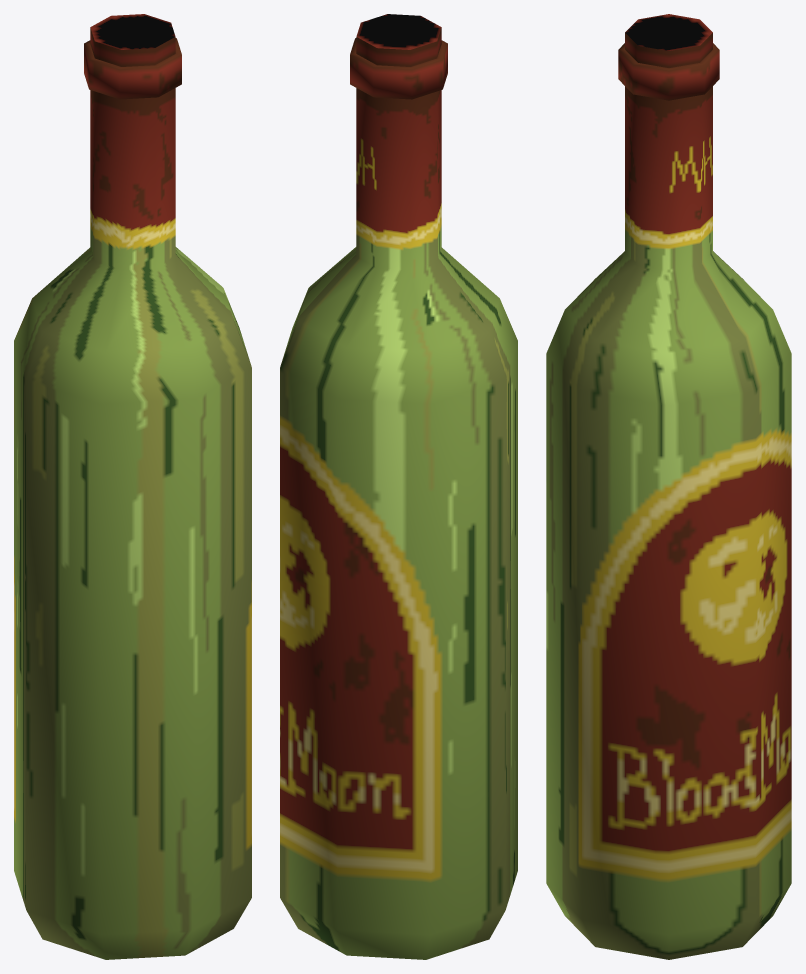
The model's file is a bottle.glb.
The picture shows the model from 3 angles, left to right: view 1: azimuth 30°, elevation 25°; view 2: azimuth 150°, elevation 25°; view 3: azimuth 270°, elevation 25°; orthographic projection.
Parts seen in each view (by area): view 1: Cylinder; view 2: Cylinder; view 3: Cylinder.
Boxes of the visible parts, x1,y1,x2,y2 form: Cylinder: (14, 14, 251, 959); Cylinder: (280, 14, 517, 959); Cylinder: (546, 14, 791, 959).
Bounding box in the file's own units: 0.4059 × 1.61 × 0.4059.
1 material, 1 textured.
